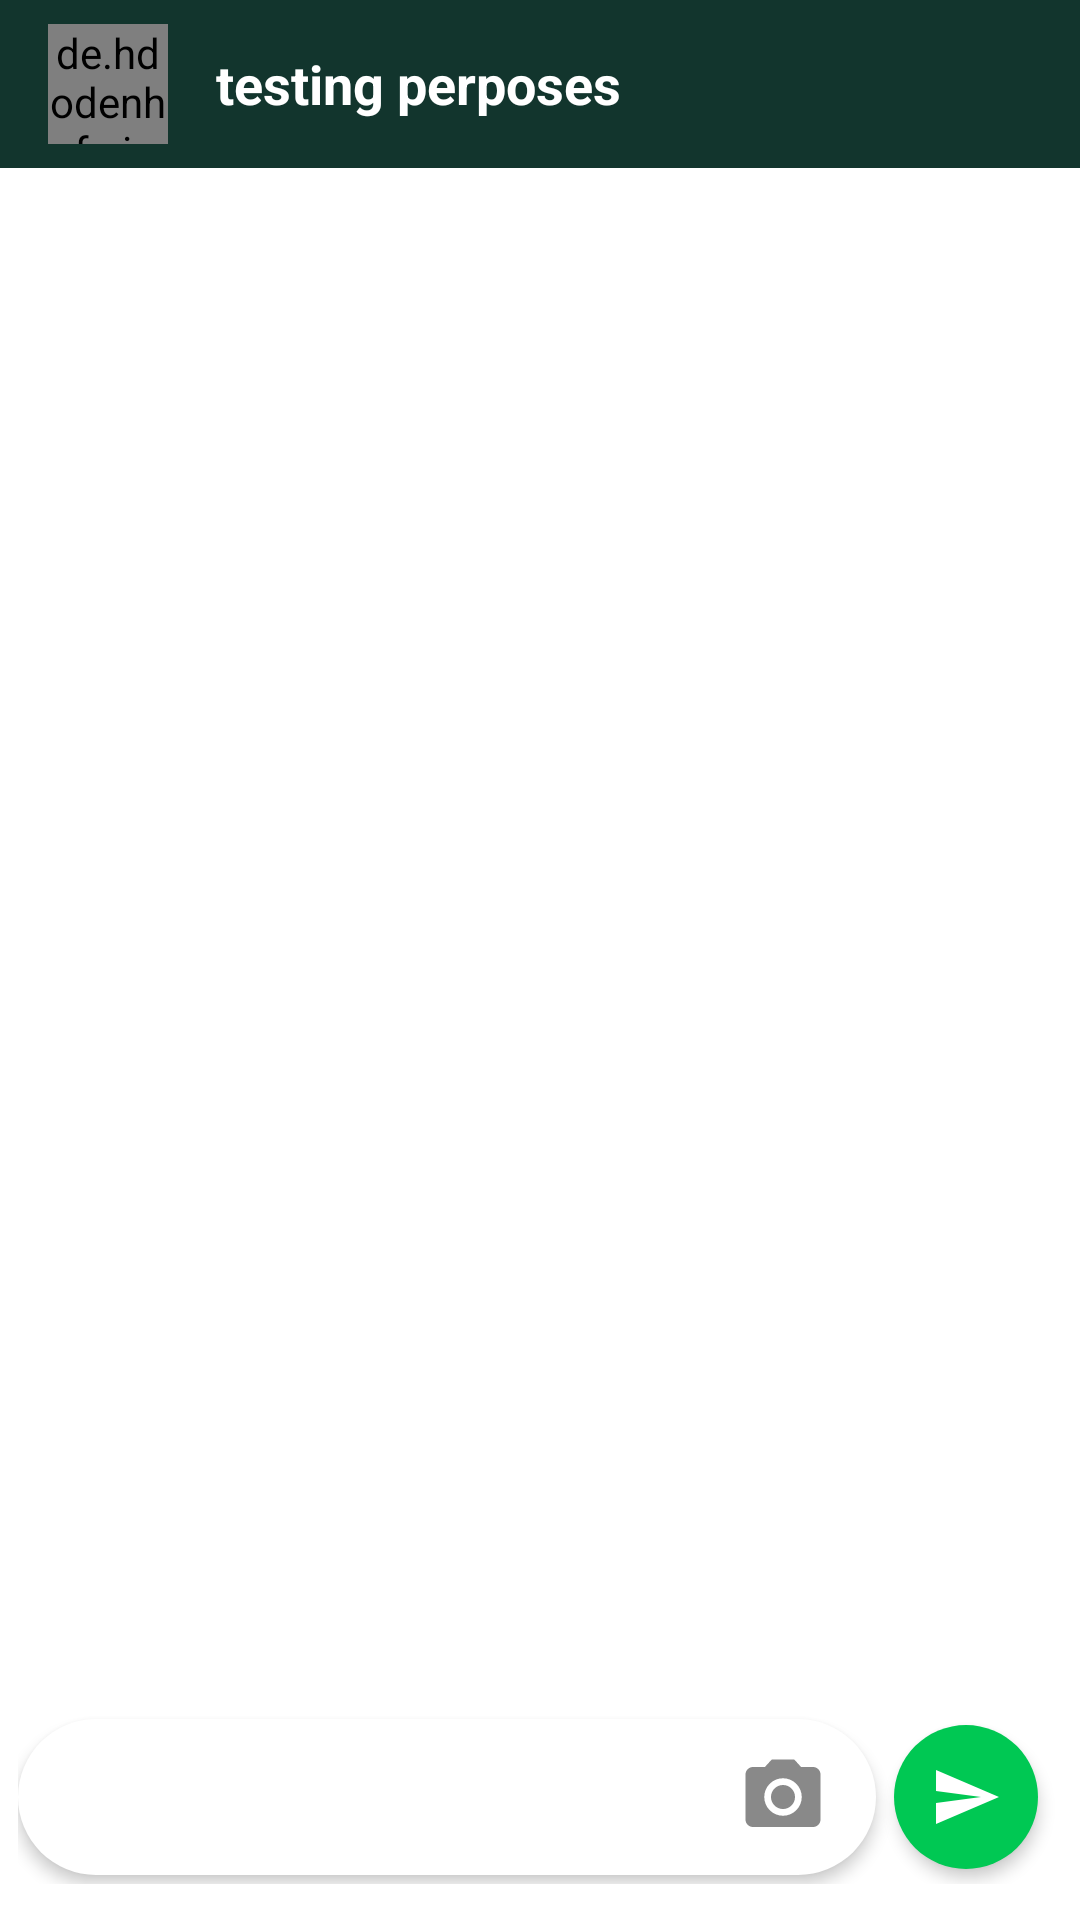

Icon bounding boxes for this 1080px x 1920px phone screenshot, format (x1, y1, x2, y2):
camera: (745, 1759, 821, 1827)
send message: (894, 1725, 1038, 1869)
